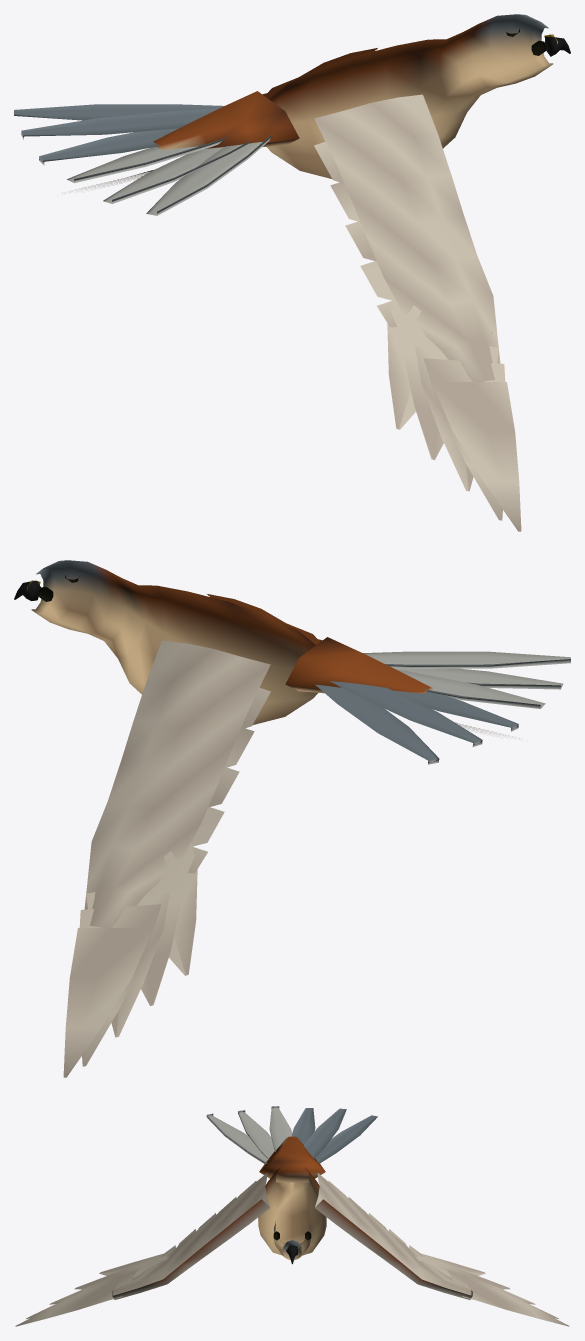
The model's file is SM_Bird_kestrel_flap2_LOD1.glb.
3 views of the same model, one above another, from view 1: azimuth 30°, elevation 25°; view 2: azimuth 150°, elevation 25°; view 3: azimuth 270°, elevation 25° (orthographic). The views are drawn at different scales.
Visible parts, largest first — view 1: SM_Bird_kestrel_flap2_LOD1; view 2: SM_Bird_kestrel_flap2_LOD1; view 3: SM_Bird_kestrel_flap2_LOD1.
Part boxes in pixels (x1,y1,x2,y2): SM_Bird_kestrel_flap2_LOD1: [14, 14, 570, 531]; SM_Bird_kestrel_flap2_LOD1: [14, 560, 570, 1077]; SM_Bird_kestrel_flap2_LOD1: [15, 1106, 569, 1326].
Size of the model in its own units: 0.3786 by 0.206 by 0.5907.
